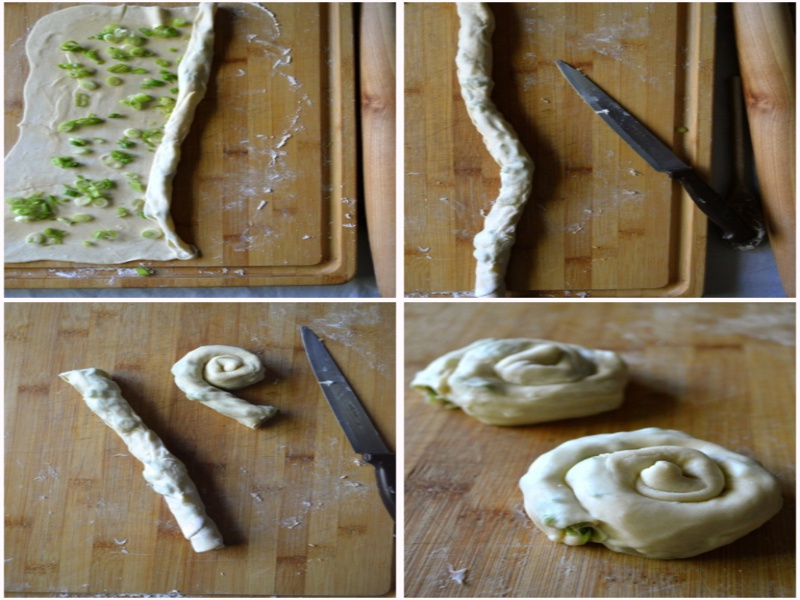knife: (555, 53, 767, 251), (297, 322, 396, 525)
